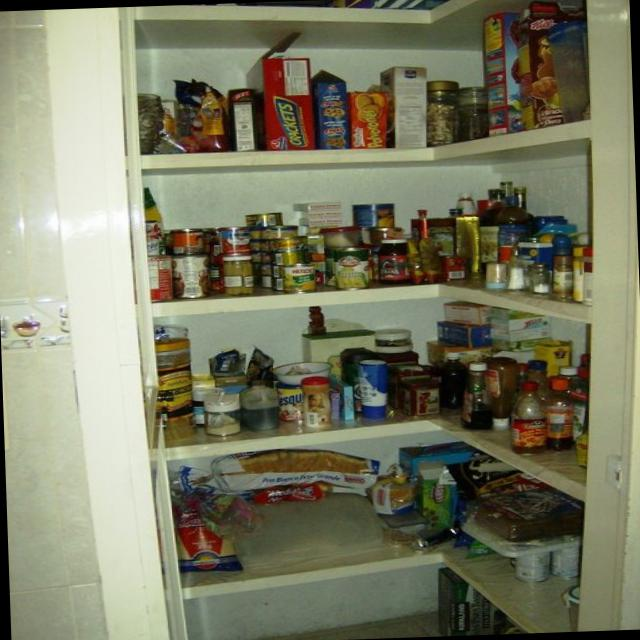auxiliary table: (375, 263, 493, 316)
chair -occluded-: (521, 212, 618, 359)
desk divider: (0, 280, 227, 609)
door bars: (177, 84, 344, 346), (0, 76, 86, 281)
floor -X: (11, 340, 640, 607)
lamp crop: (411, 166, 491, 238)
photo frame: (441, 235, 491, 269)
rug -partially obscured-: (150, 345, 318, 404)
seats crop: (333, 294, 506, 459)
sign: (186, 18, 299, 58)
wall clock: (114, 0, 640, 361), (0, 7, 138, 290)
